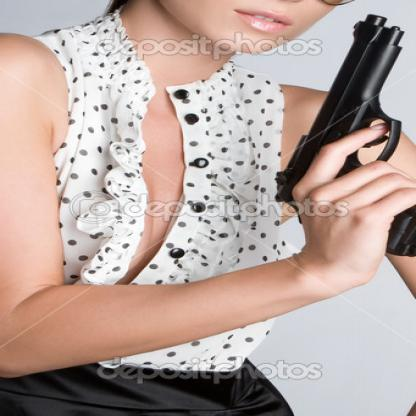gun: (265, 13, 415, 272)
